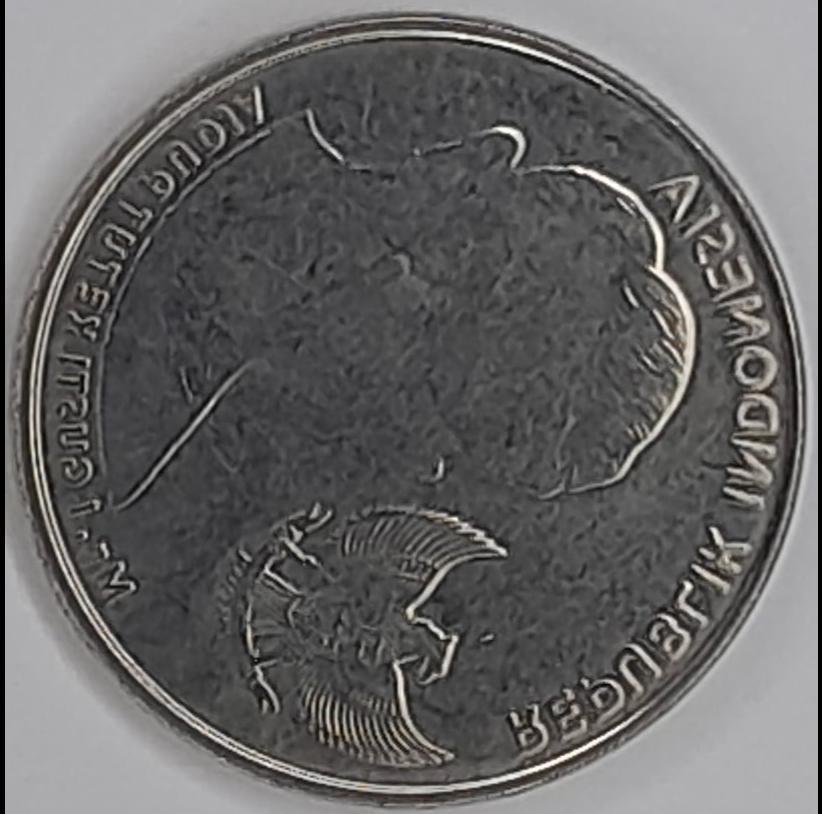coin_1000_e2016: (14, 16, 811, 814)
